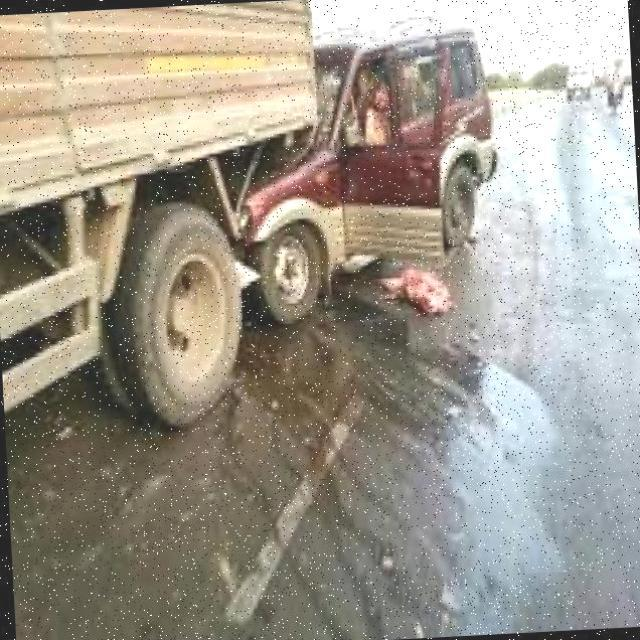accident: (67, 30, 437, 352)
